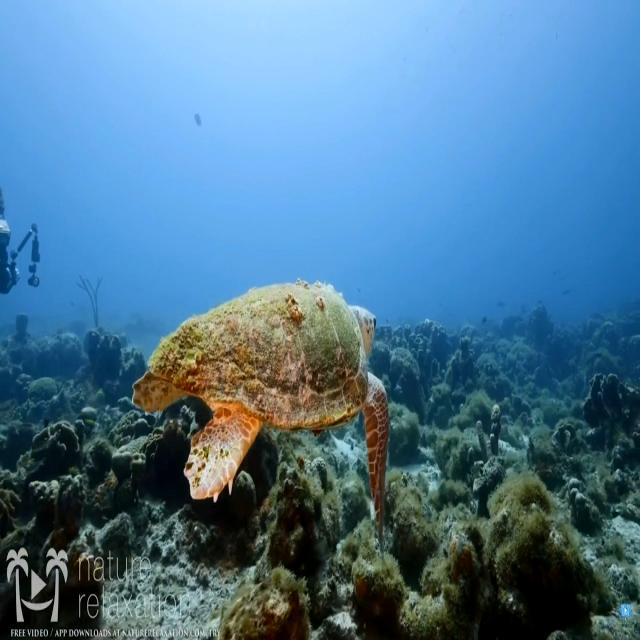Sea turtle: (128, 276, 392, 570)
